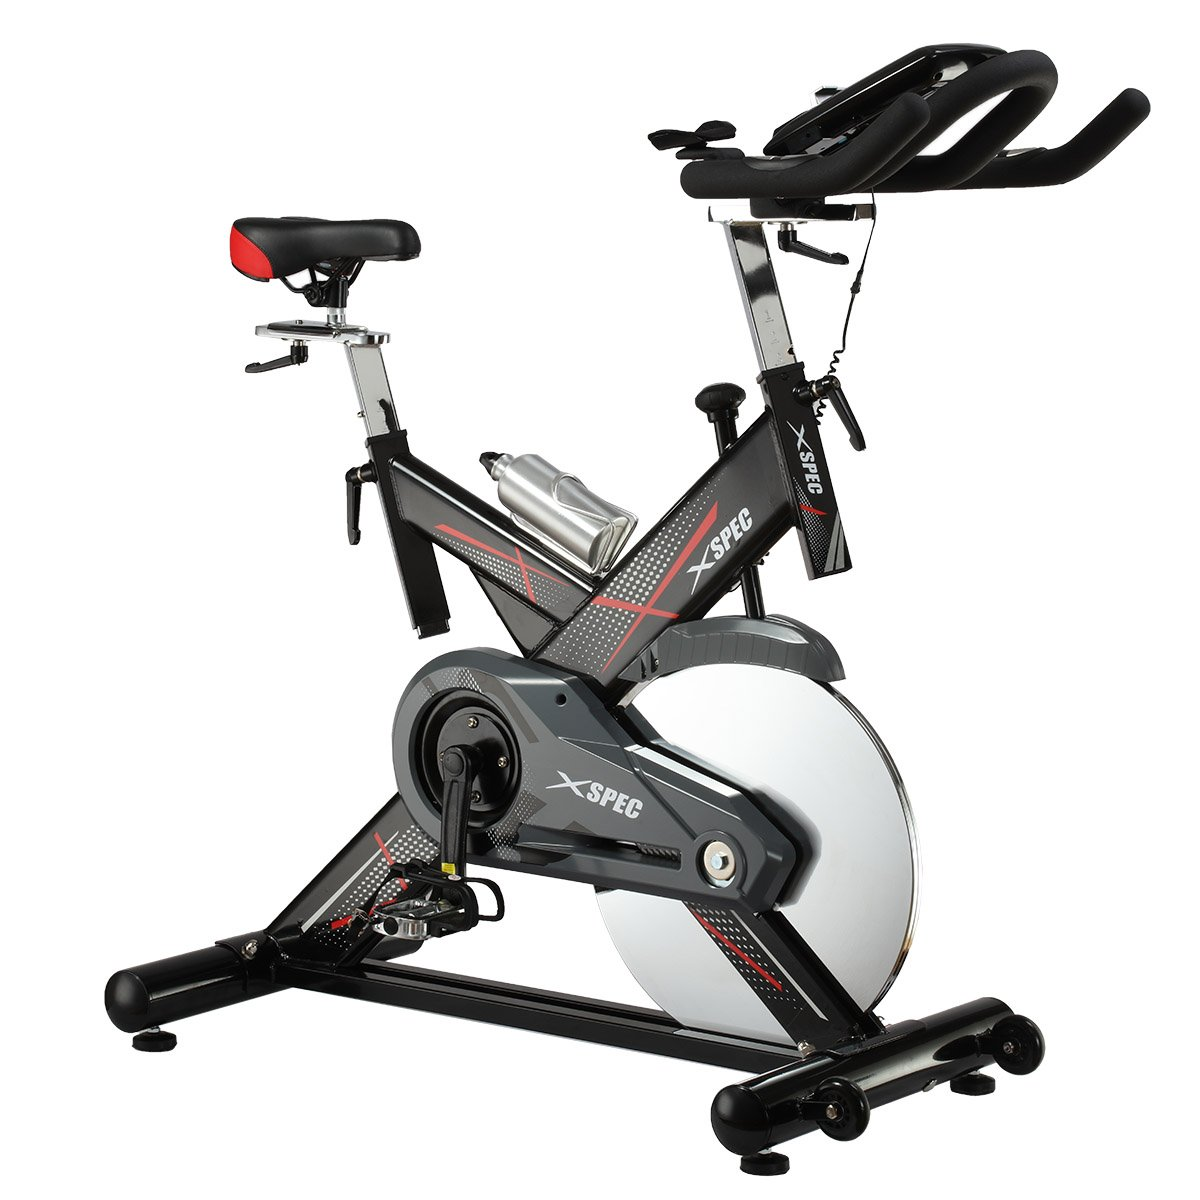gym_bike: (56, 52, 1136, 1165)
